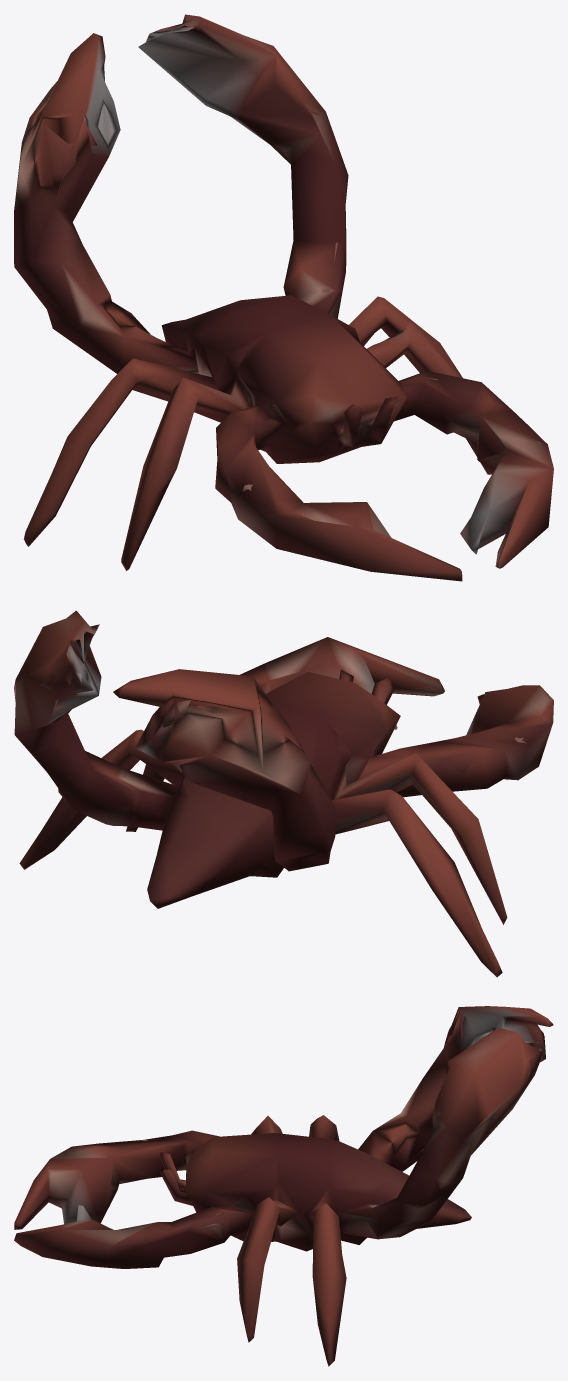
The model's file is gen3d-scorpion-lod1.glb.
3 renders of one model, top to bottom at view 1: azimuth 30°, elevation 25°; view 2: azimuth 150°, elevation 25°; view 3: azimuth 270°, elevation 25°, orthographic. The views are drawn at different scales.
Parts seen in each view (by area): view 1: part_0; view 2: part_0; view 3: part_0.
Boxes of the visible parts, x1,y1,x2,y2 form: part_0: (14,14,553,581); part_0: (14,610,553,977); part_0: (14,1006,553,1366).
Size of the model in its own units: 1.32 by 0.999 by 1.77.
